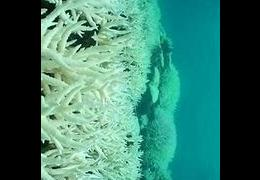bleached_corals: (40, 0, 157, 180)
